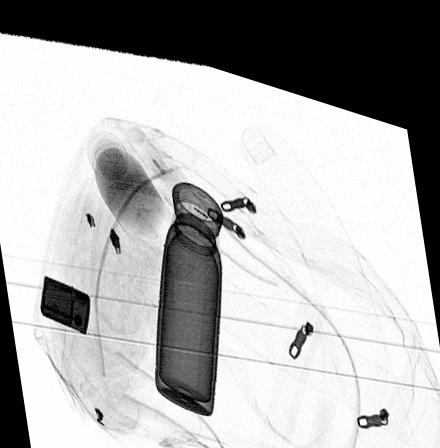Lighter: (40, 272, 91, 331)
